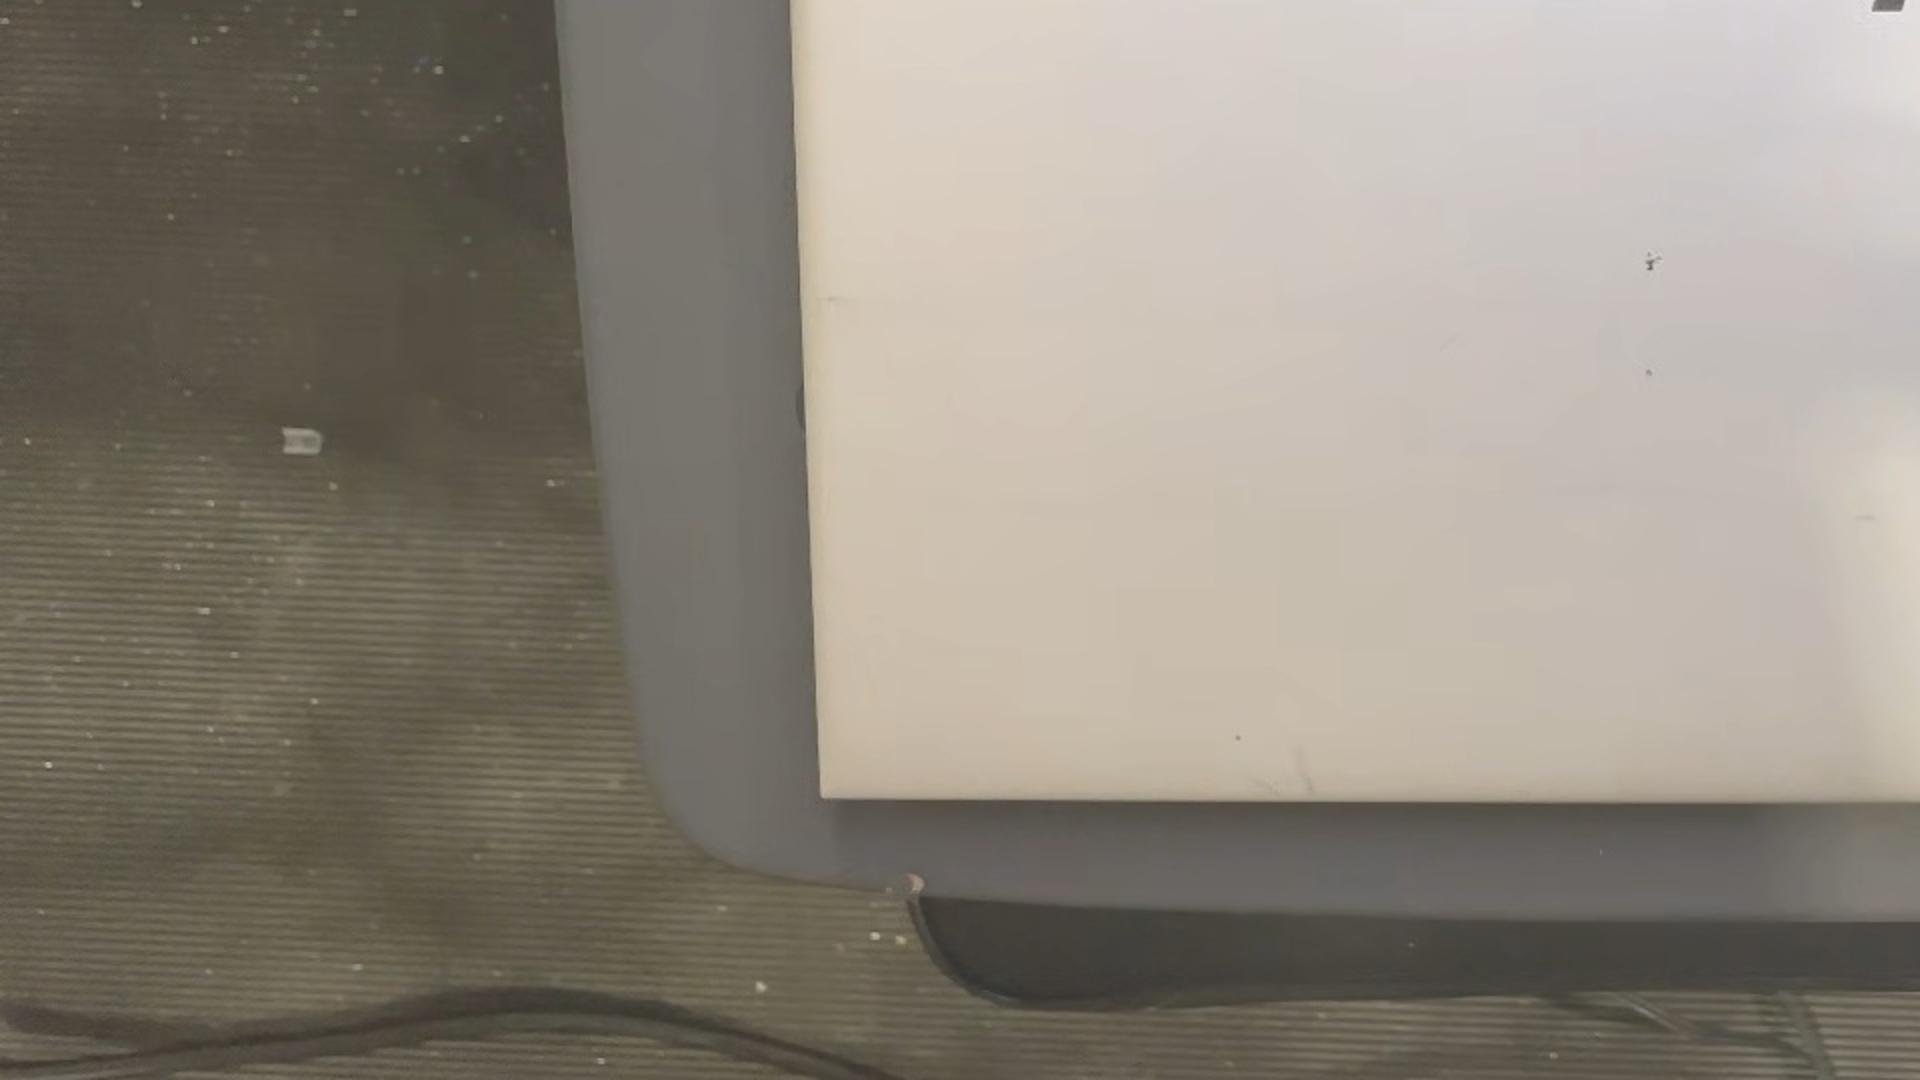chip: (1640, 248, 1662, 272)
